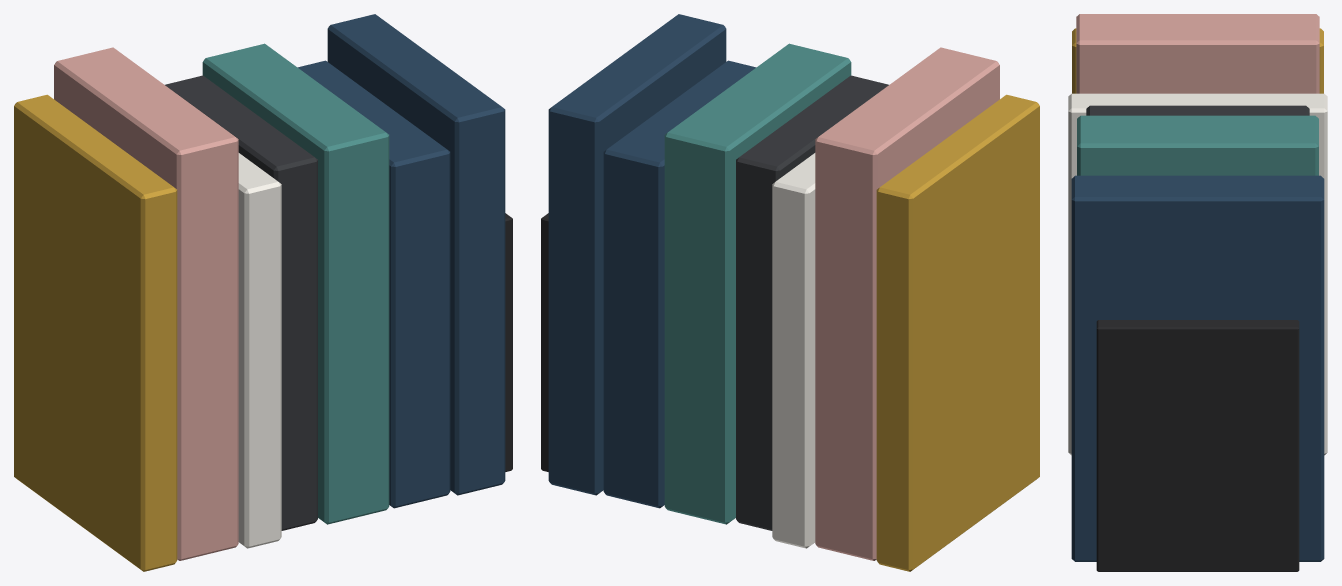
Rendered from i_books_s1.glb.
3 renders of one model, left to right at view 1: azimuth 30°, elevation 25°; view 2: azimuth 150°, elevation 25°; view 3: azimuth 270°, elevation 25°, orthographic. The views are drawn at different scales.
Parts seen in each view (by area): view 1: o, o.001, o.004, o.006, o.005, o.003, o.002, o.007; view 2: o, o.001, o.004, o.006, o.005, o.003, o.002, o.007; view 3: o.007, o.006, o.001, o.004, o.002, o.003, o.
Boxes of the visible parts, left/top/right/bottom form: o: left=14, top=94, right=177, bottom=571; o.001: left=54, top=47, right=238, bottom=560; o.004: left=202, top=43, right=389, bottom=524; o.006: left=327, top=14, right=505, bottom=495; o.005: left=297, top=60, right=450, bottom=508; o.003: left=165, top=75, right=317, bottom=530; o.002: left=238, top=153, right=281, bottom=548; o.007: left=505, top=213, right=512, bottom=471; o: left=876, top=94, right=1039, bottom=571; o.001: left=815, top=47, right=999, bottom=560; o.004: left=664, top=43, right=851, bottom=524; o.006: left=548, top=14, right=726, bottom=495; o.005: left=603, top=60, right=756, bottom=508; o.003: left=736, top=75, right=888, bottom=530; o.002: left=772, top=153, right=815, bottom=548; o.007: left=541, top=213, right=548, bottom=471; o.007: left=1096, top=320, right=1299, bottom=571; o.006: left=1071, top=175, right=1324, bottom=561; o.001: left=1076, top=14, right=1319, bottom=93; o.004: left=1077, top=115, right=1318, bottom=175; o.002: left=1068, top=93, right=1327, bottom=455; o.003: left=1086, top=105, right=1309, bottom=115; o: left=1072, top=28, right=1323, bottom=93.
Size of the model in its own units: 0.2539 by 0.2593 by 0.1537.
